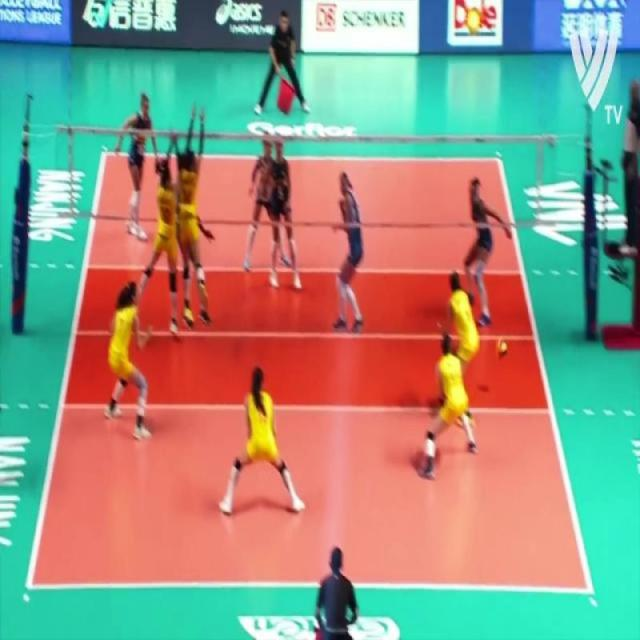volleyball: (496, 340, 508, 358)
